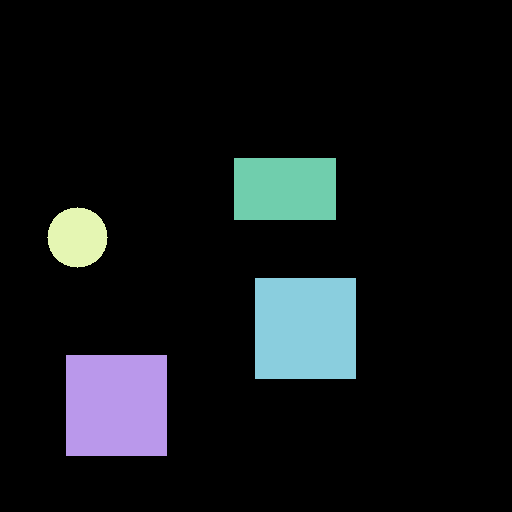circle: (47, 207, 107, 267)
rectangle: (234, 158, 335, 219)
square: (66, 355, 166, 455), (255, 278, 355, 378)
